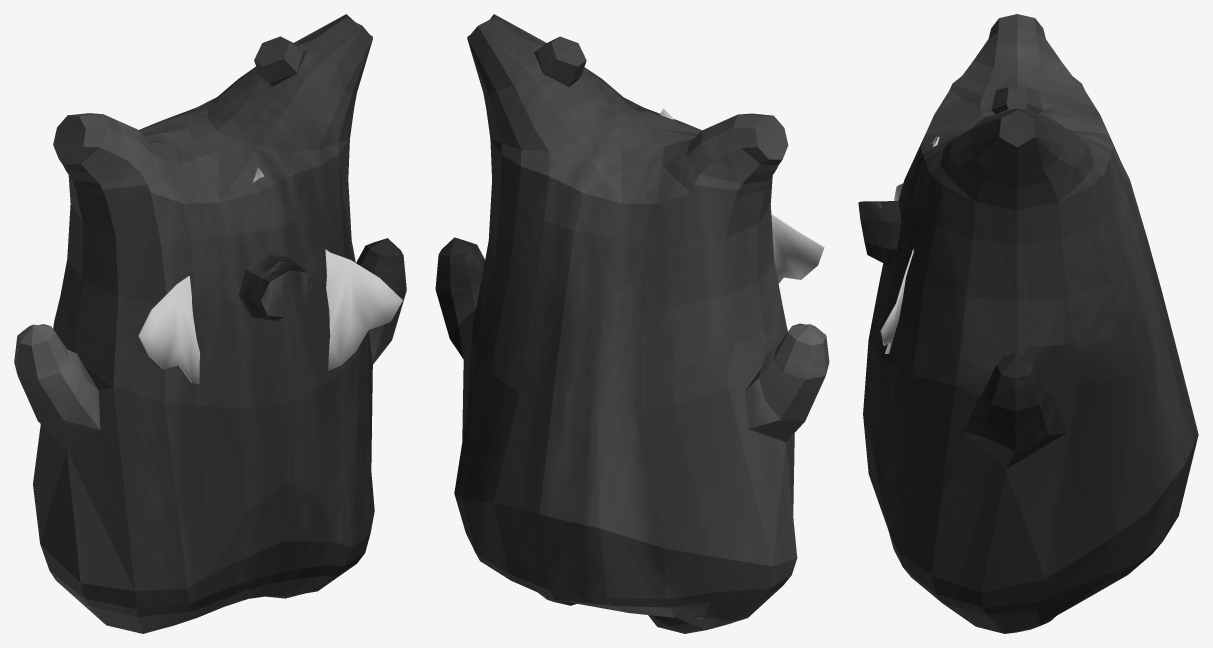
File: frame_0060.obj
The picture shows the model from 3 angles, left to right: view 1: azimuth 30°, elevation 25°; view 2: azimuth 150°, elevation 25°; view 3: azimuth 270°, elevation 25°; orthographic projection.
Parts seen in each view (by area): view 1: korok, leaf, nose; view 2: korok, leaf; view 3: korok, nose, leaf.
Part boxes in pixels (<box>): korok: <box>14,14,406,633</box>; leaf: <box>138,167,402,384</box>; nose: <box>239,254,312,320</box>; korok: <box>435,14,829,633</box>; leaf: <box>660,108,824,283</box>; korok: <box>863,14,1198,633</box>; nose: <box>858,200,901,266</box>; leaf: <box>880,136,939,353</box>.
Size of the model in its own units: 1.52 by 2.11 by 1.18.
